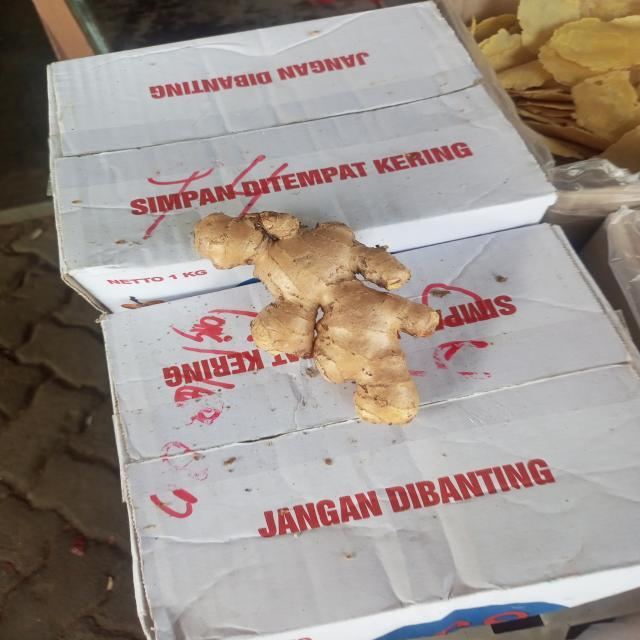ginger: (200, 215, 435, 428)
